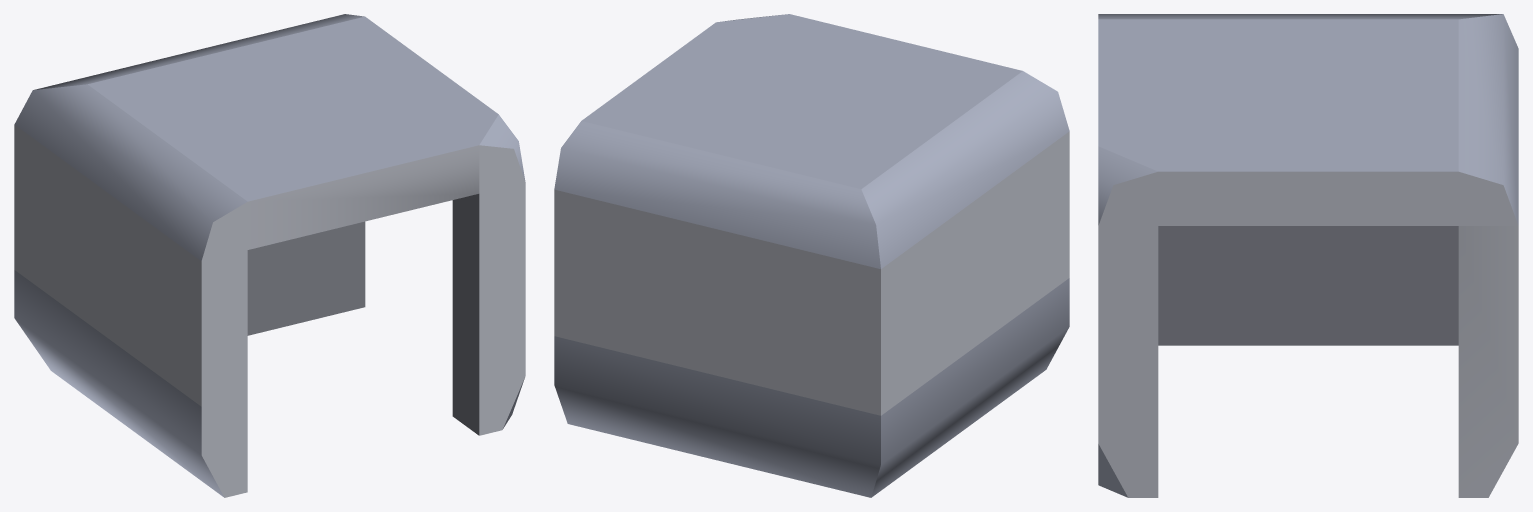
The model's file is cover-corner.fbx.
The picture shows the model from 3 angles, left to right: view 1: azimuth 30°, elevation 25°; view 2: azimuth 150°, elevation 25°; view 3: azimuth 270°, elevation 25°; orthographic projection. The views are drawn at different scales.
Parts seen in each view (by area): view 1: cover-corner; view 2: cover-corner; view 3: cover-corner.
Part boxes in pixels (x1,y1,x2,y2): cover-corner: [14, 14, 525, 497]; cover-corner: [554, 14, 1069, 497]; cover-corner: [1098, 14, 1518, 497].
Bounding box in the file's own units: 140 × 120 × 140.
